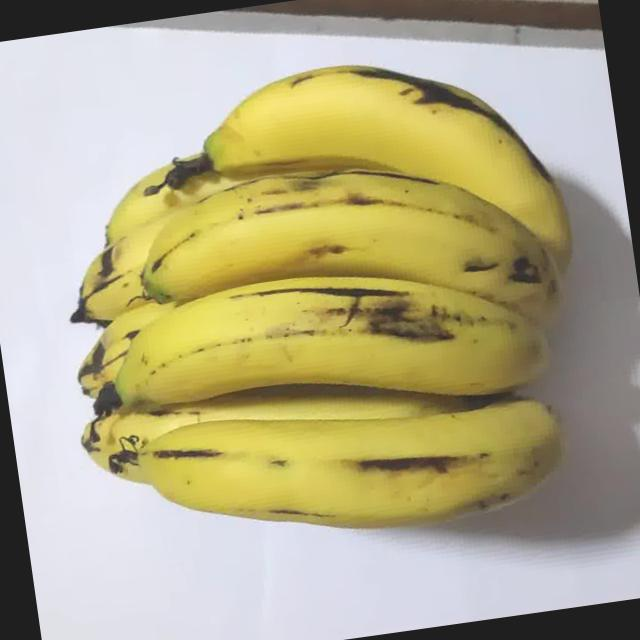banana_pacche: (26, 7, 640, 615)
